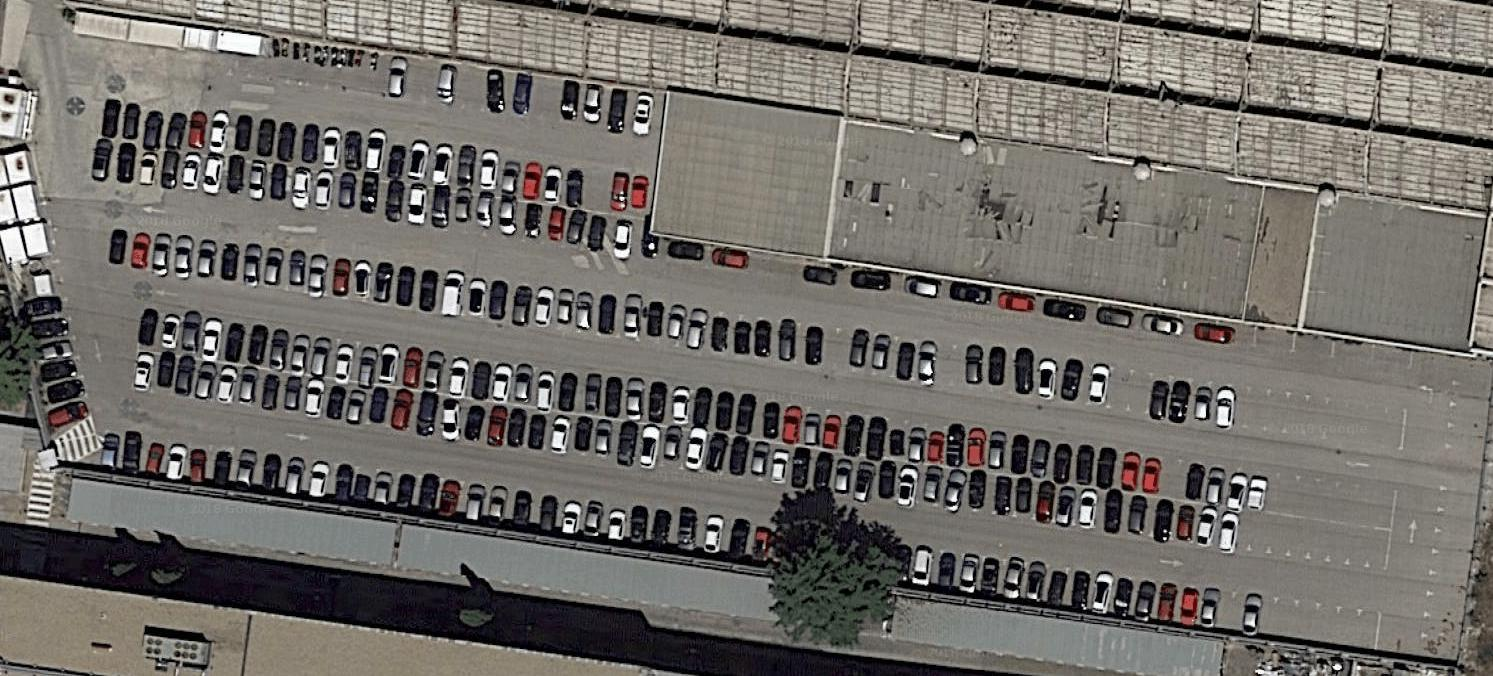parkingspot: (107, 225, 1409, 453), (96, 429, 1382, 658), (136, 308, 1400, 532), (130, 349, 1393, 572), (663, 238, 1451, 374), (99, 92, 656, 222), (89, 136, 648, 263), (382, 52, 661, 139), (1418, 359, 1493, 662), (22, 291, 94, 431)
